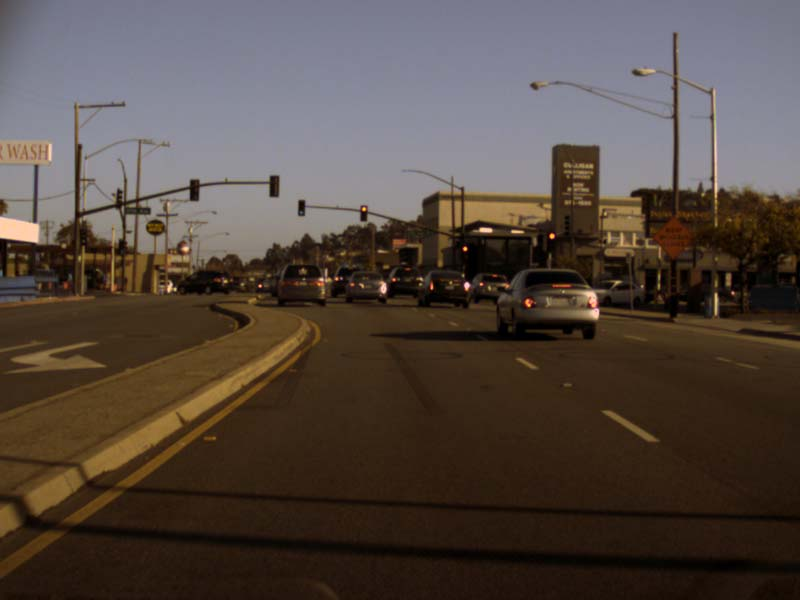Green: (298, 199, 304, 215)
Red: (547, 230, 555, 250), (461, 245, 467, 262), (361, 205, 366, 219)
